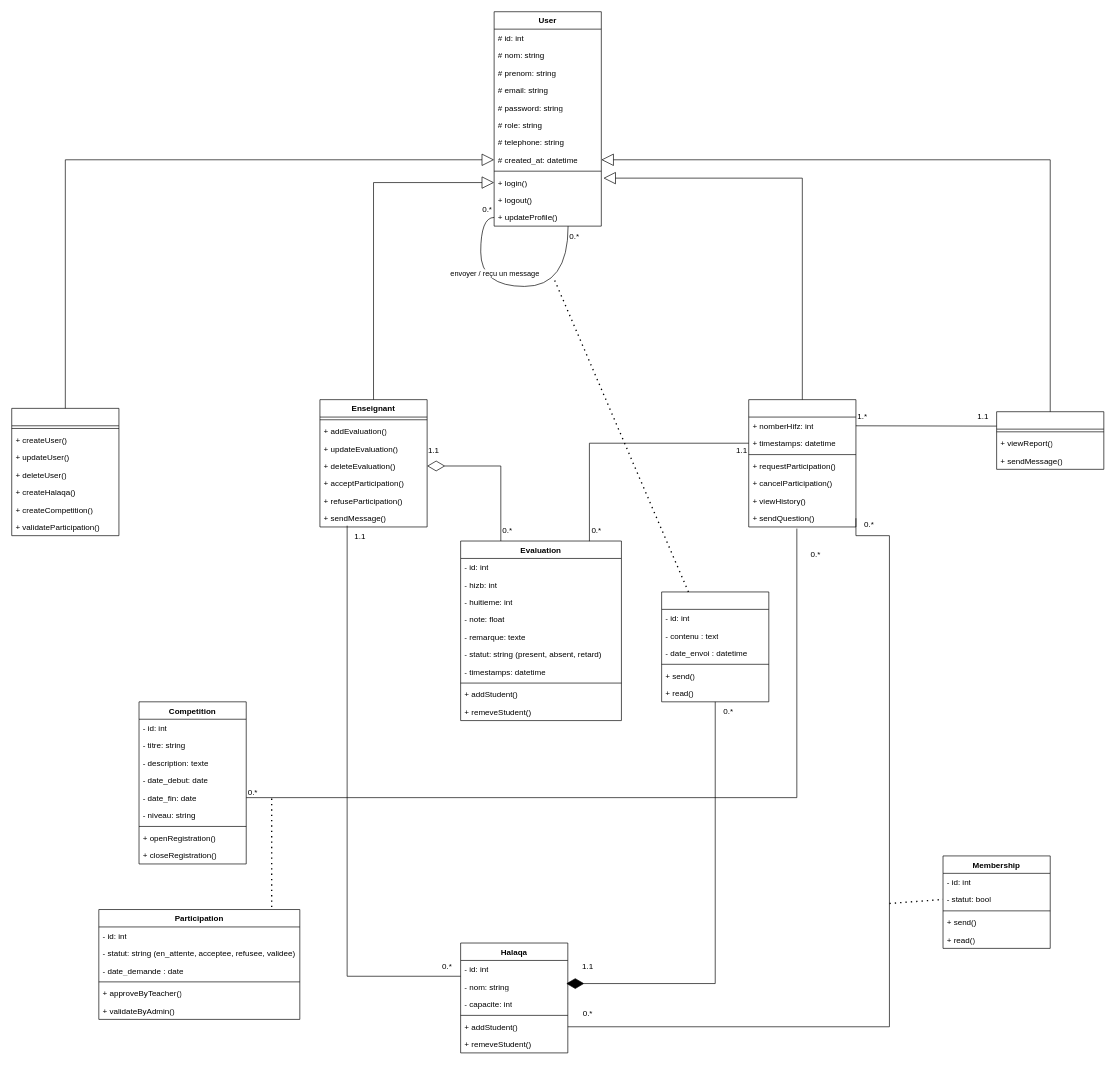
Some shapes in this 1116 by 1067 pixel diagram are drawn without their labels. The box of each missing label's shape, as (x1, y1, x2, y2) in pixels:
Admin: (11, 408, 119, 536)
Etudiant: (748, 399, 856, 527)
Message: (661, 591, 769, 702)
Parent: (996, 411, 1104, 469)
